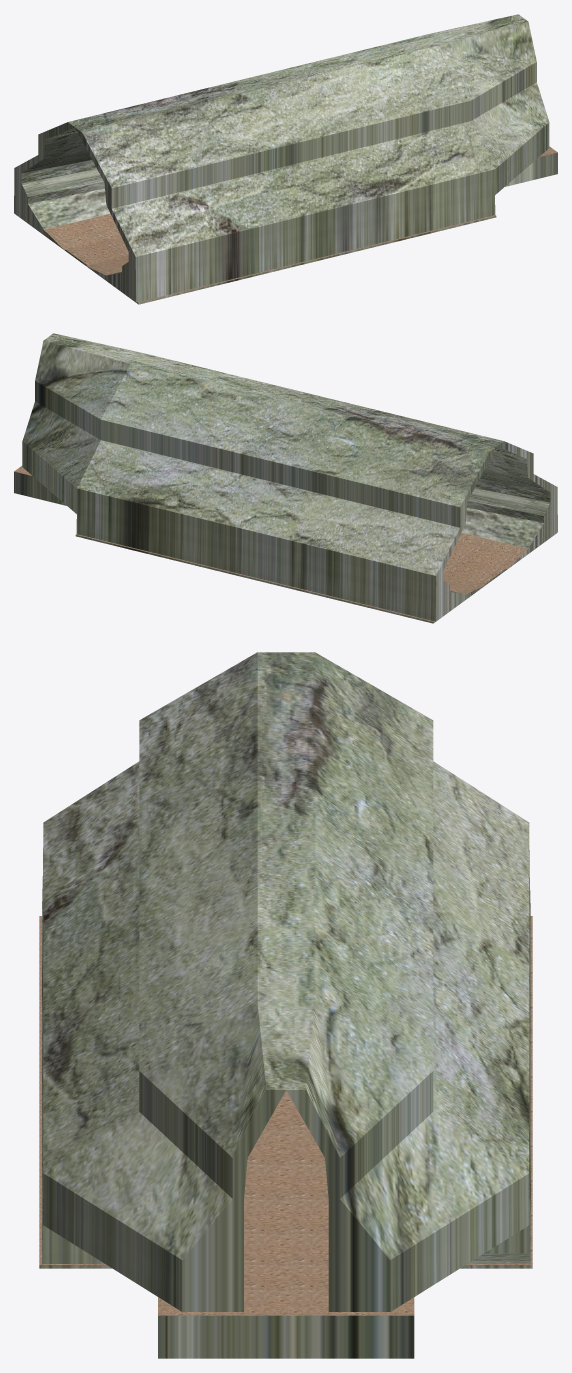
File: TutorialTemple_Ver2.FBX
3 renders of one model, top to bottom at view 1: azimuth 30°, elevation 25°; view 2: azimuth 150°, elevation 25°; view 3: azimuth 270°, elevation 25°, orthographic. The views are drawn at different scales.
Visible parts, largest first — view 1: Carvedbase; view 2: Carvedbase; view 3: Carvedbase.
Boxes of the visible parts, <box> form: Carvedbase: <box>14,14,557,304</box>; Carvedbase: <box>14,333,557,623</box>; Carvedbase: <box>39,652,532,1358</box>.
Bounding box in the file's own units: 2038 × 584 × 965.
Materials: 1 (1 with a texture image).
